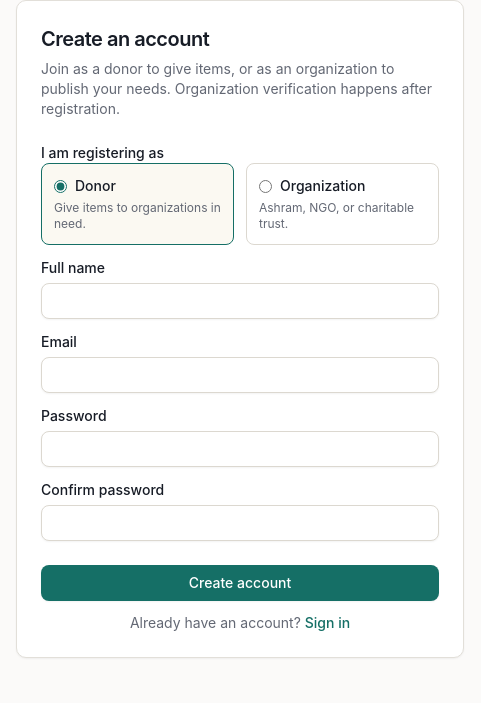
RegisterPage › blocks submission when passwords do not match
This screenshot has width=481, height=703.
In the field labelled "Full name": (240, 301) [41,283,439,319], type "Demo Donor"
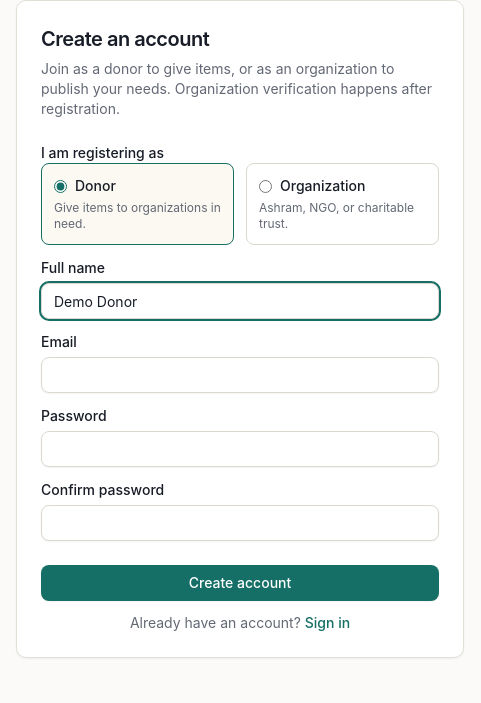
In the field labelled "Email": (240, 375) [41,357,439,393], type "donor@example.com"
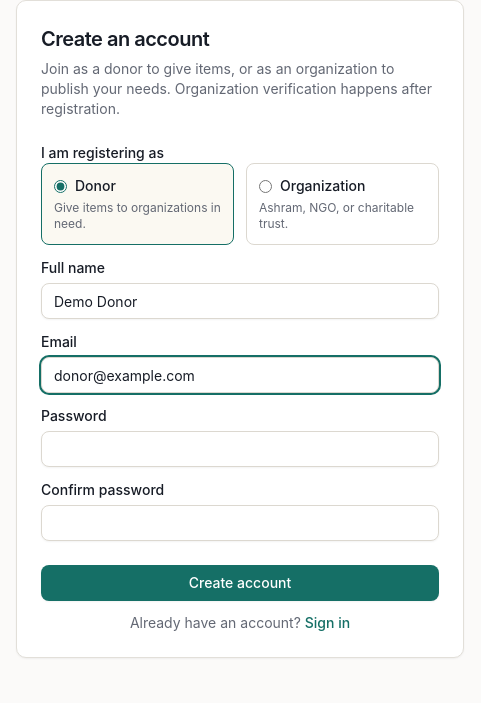
In the password field labelled "Password": (240, 449) [41,431,439,467], type "S3curePass!"
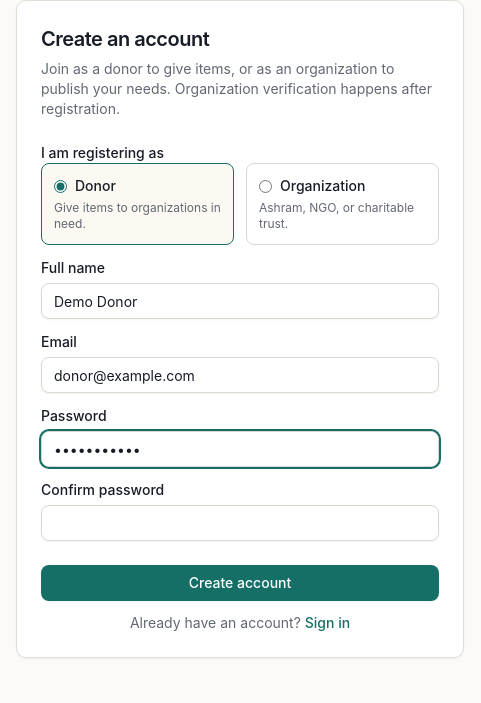
In the password field labelled "Confirm password": (240, 523) [41,505,439,541], type "Different1!"
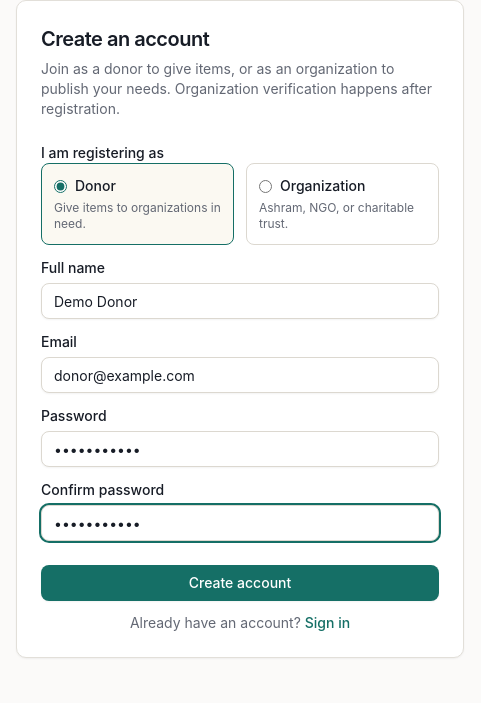
Click the button "Create account": (240, 583) [41,565,439,601]
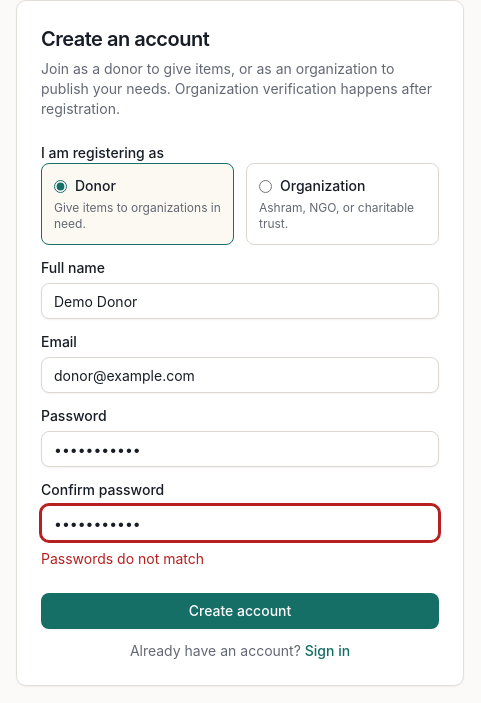
Expected: the text "Passwords do not match" is shown, [41,550,204,567]
